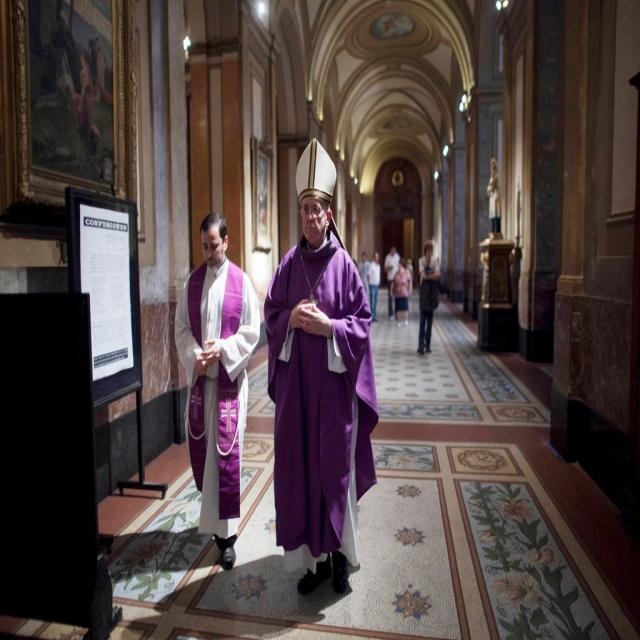body: (263, 170, 378, 597), (174, 209, 262, 570), (47, 23, 114, 174), (345, 240, 446, 276), (417, 240, 442, 356), (482, 155, 505, 239), (388, 256, 412, 326), (384, 242, 401, 320), (367, 250, 379, 322)
